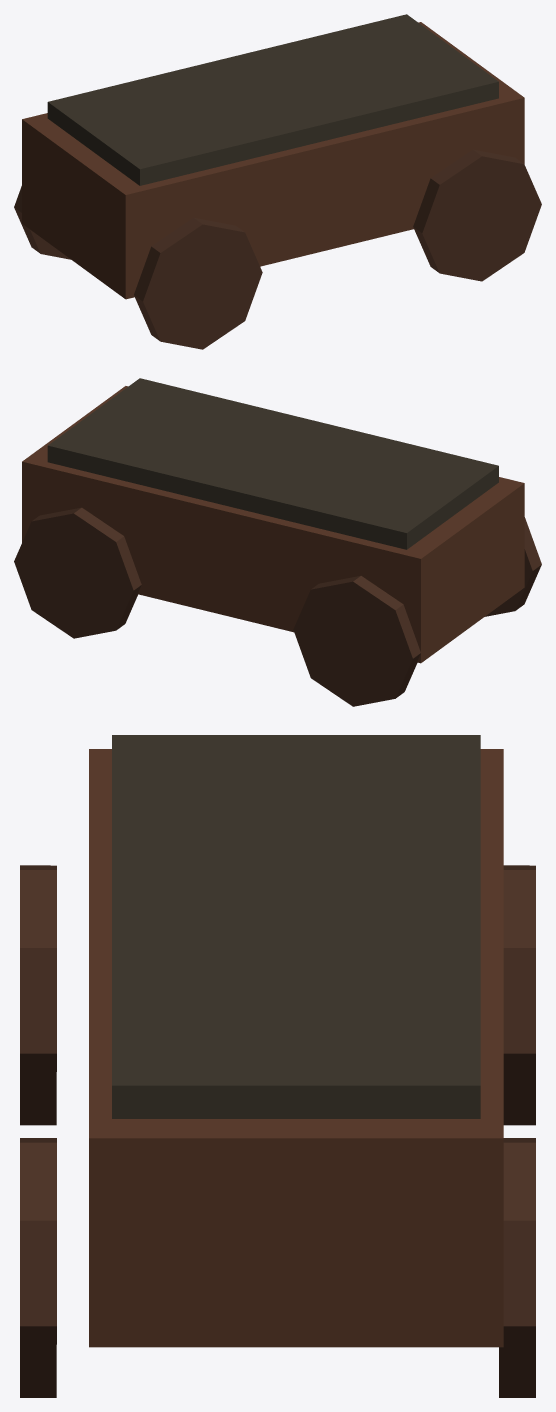
Rendered from s3_rusty_cart.glb.
3 renders of one model, top to bottom at view 1: azimuth 30°, elevation 25°; view 2: azimuth 150°, elevation 25°; view 3: azimuth 270°, elevation 25°, orthographic. The views are drawn at different scales.
Parts seen in each view (by area): view 1: s3_rusty_cart; view 2: s3_rusty_cart; view 3: s3_rusty_cart.
Part boxes in pixels (box(x1,y1,x2,y2)): s3_rusty_cart: box(14, 14, 541, 349); s3_rusty_cart: box(14, 378, 541, 706); s3_rusty_cart: box(20, 735, 535, 1397).
Bounding box in the file's own units: 2 × 0.83 × 1.12.
